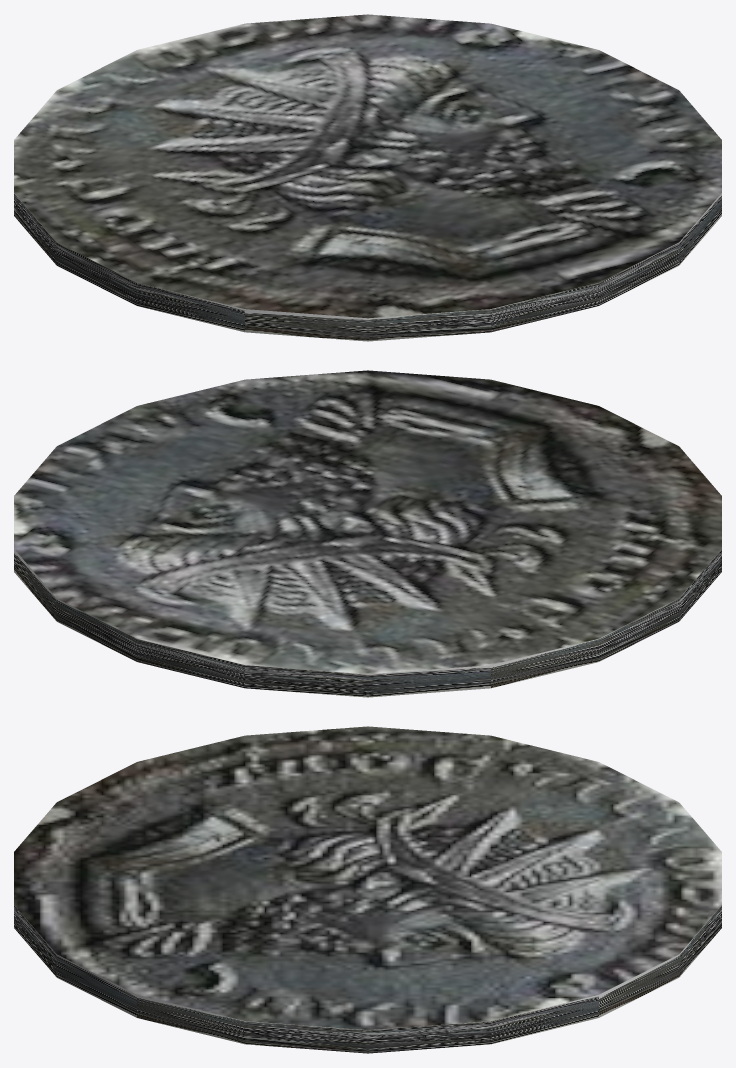
The model's file is Coin1.FBX.
3 views of the same model, one above another, from view 1: azimuth 30°, elevation 25°; view 2: azimuth 150°, elevation 25°; view 3: azimuth 270°, elevation 25° (orthographic).
Visible parts, largest first — view 1: Coin1; view 2: Coin1; view 3: Coin1.
Boxes of the visible parts, bbox=[...] form: Coin1: bbox=[14, 14, 721, 341]; Coin1: bbox=[14, 370, 721, 697]; Coin1: bbox=[14, 726, 721, 1053].
Bounding box in the file's own units: 17.22 × 0.6154 × 16.96.
2 materials, 2 textured.
